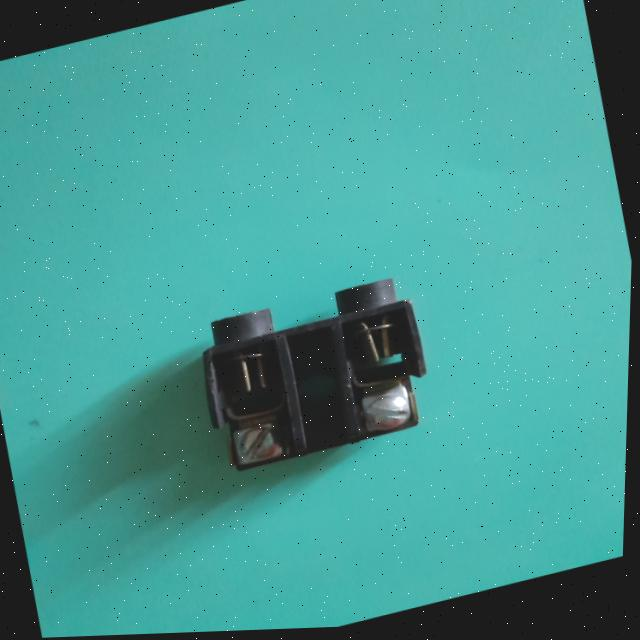Slotted: (362, 389, 414, 434), (234, 421, 284, 465)
